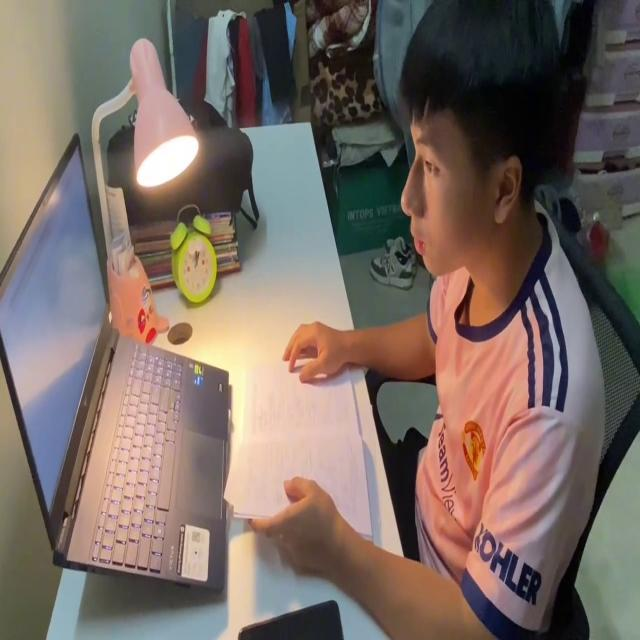book: (223, 339, 375, 559)
laptop: (0, 126, 231, 599)
phone: (238, 594, 348, 640)
student: (235, 0, 614, 640)
